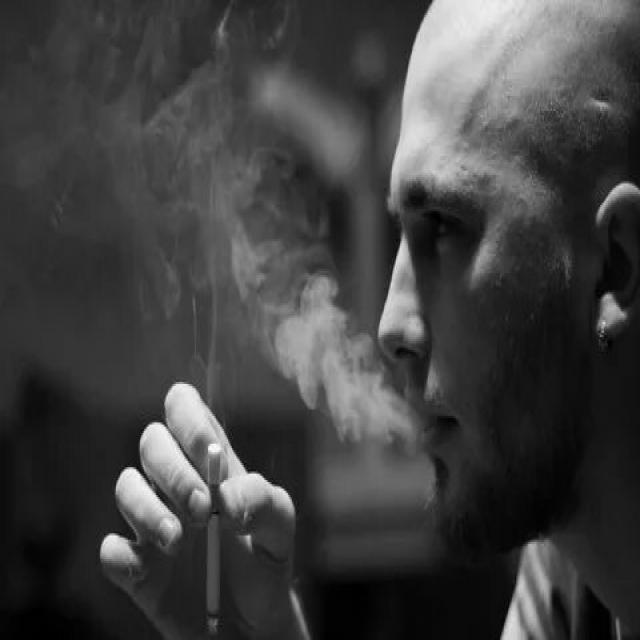smoke: (204, 437, 225, 640)
